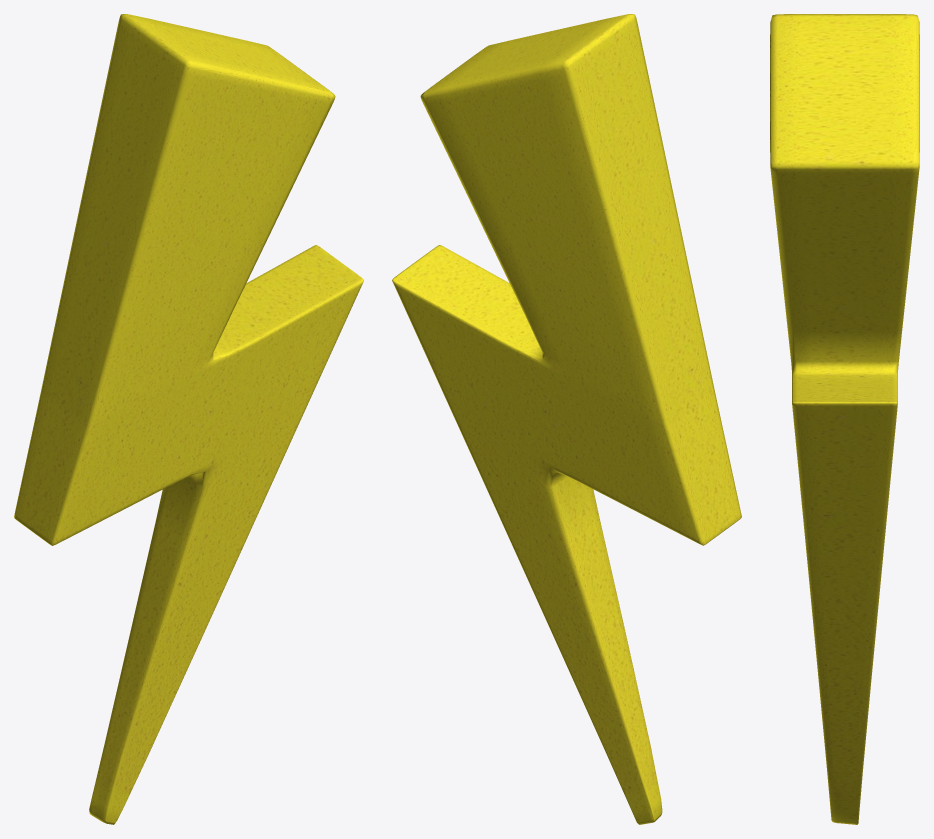
Rendered from MolniaBonusSK.fbx.
The picture shows the model from 3 angles, left to right: view 1: azimuth 30°, elevation 25°; view 2: azimuth 150°, elevation 25°; view 3: azimuth 270°, elevation 25°; orthographic projection. The views are drawn at different scales.
Parts seen in each view (by area): view 1: MolniaBonusSK; view 2: MolniaBonusSK; view 3: MolniaBonusSK.
Boxes of the visible parts, x1,y1,x2,y2 form: MolniaBonusSK: (14,14,363,824); MolniaBonusSK: (392,14,741,824); MolniaBonusSK: (770,14,919,824).
Size of the model in its own units: 172 by 413 by 67.27.
